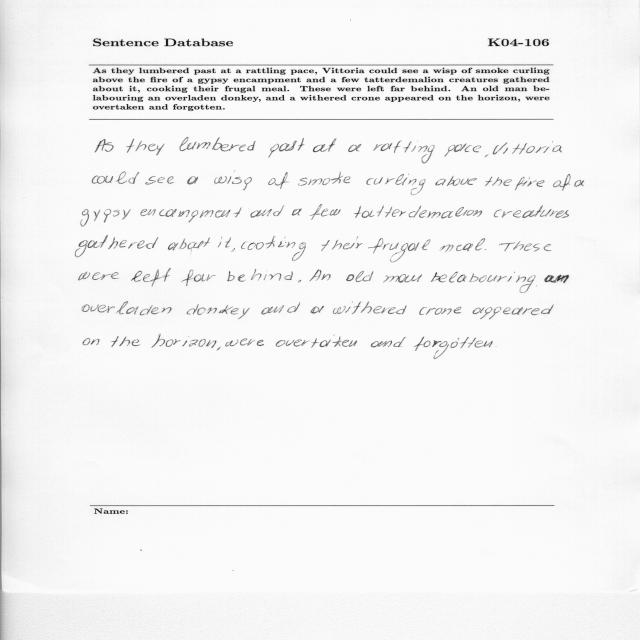word: (431, 271, 537, 293), (76, 236, 159, 258), (354, 206, 482, 219), (241, 236, 306, 261), (141, 207, 242, 222), (368, 239, 431, 263), (374, 141, 435, 164), (414, 337, 476, 359), (367, 174, 426, 196), (472, 305, 554, 320), (82, 302, 172, 315), (179, 137, 256, 152), (276, 335, 357, 348), (494, 205, 569, 218), (187, 304, 250, 319), (151, 334, 217, 348), (493, 141, 562, 154), (333, 302, 407, 314), (227, 269, 293, 282), (81, 209, 131, 226), (131, 268, 171, 287), (299, 172, 351, 186), (268, 138, 305, 157), (214, 172, 252, 190), (127, 139, 165, 156), (440, 238, 486, 252), (168, 237, 210, 251), (321, 237, 363, 251), (499, 241, 551, 252), (92, 172, 139, 184), (181, 270, 216, 286), (445, 143, 481, 157), (310, 204, 341, 220), (250, 205, 284, 218), (436, 176, 477, 186), (515, 177, 545, 190), (79, 272, 119, 281), (268, 172, 289, 189), (383, 274, 422, 283), (371, 337, 406, 347), (313, 138, 337, 152), (420, 307, 462, 315), (111, 336, 140, 347), (225, 339, 264, 347), (346, 271, 374, 282), (553, 174, 571, 191), (485, 177, 512, 187), (309, 270, 331, 282), (145, 176, 174, 185), (95, 139, 114, 152), (279, 302, 300, 313), (544, 275, 569, 283), (217, 237, 231, 248), (261, 307, 279, 315), (474, 341, 493, 348), (83, 338, 100, 345), (348, 144, 361, 152), (311, 306, 324, 314), (187, 177, 198, 185), (292, 208, 302, 216), (575, 180, 585, 187), (231, 248, 235, 252), (217, 347, 221, 351), (485, 155, 489, 158), (298, 280, 301, 283), (485, 249, 486, 250)
